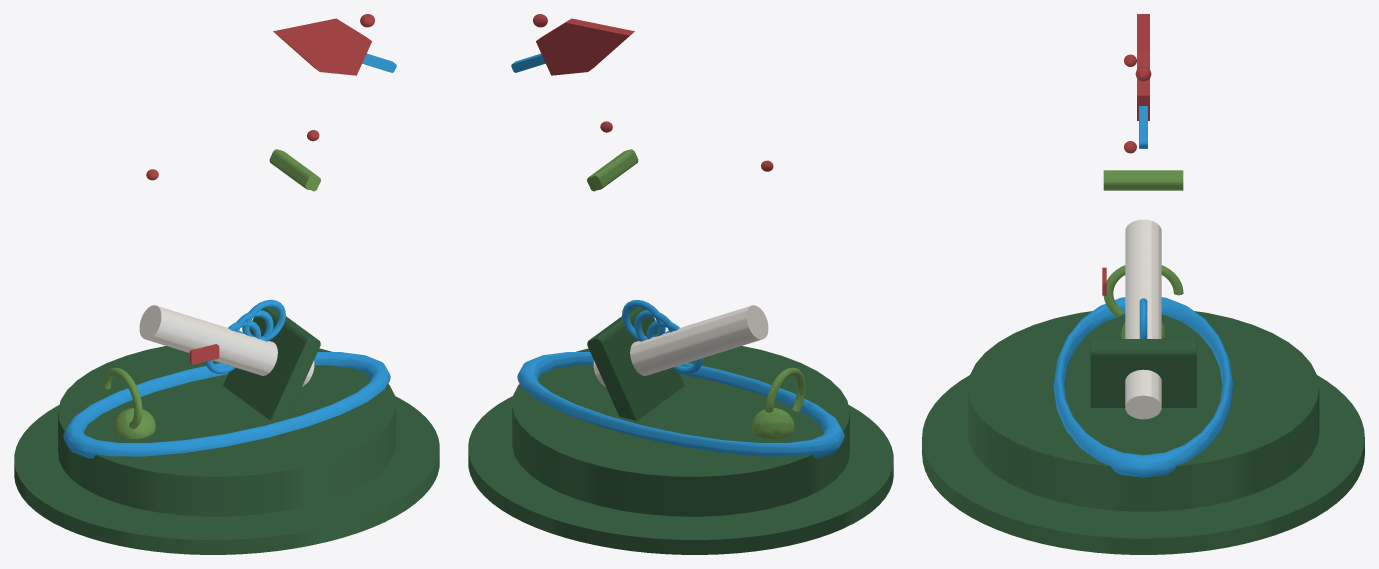
Rendered from 0574_伟大的发明图鉴_真空电子管.glb.
3 views of the same model, side by side, from view 1: azimuth 30°, elevation 25°; view 2: azimuth 150°, elevation 25°; view 3: azimuth 270°, elevation 25° (orthographic). The views are drawn at different scales.
Visible parts, largest first — view 1: card_0574; view 2: card_0574; view 3: card_0574.
Part boxes in pixels (<box>): card_0574: <box>14,14,439,554</box>; card_0574: <box>468,14,893,554</box>; card_0574: <box>922,14,1364,554</box>.
Size of the model in its own units: 0.913 by 1 by 0.8468.
